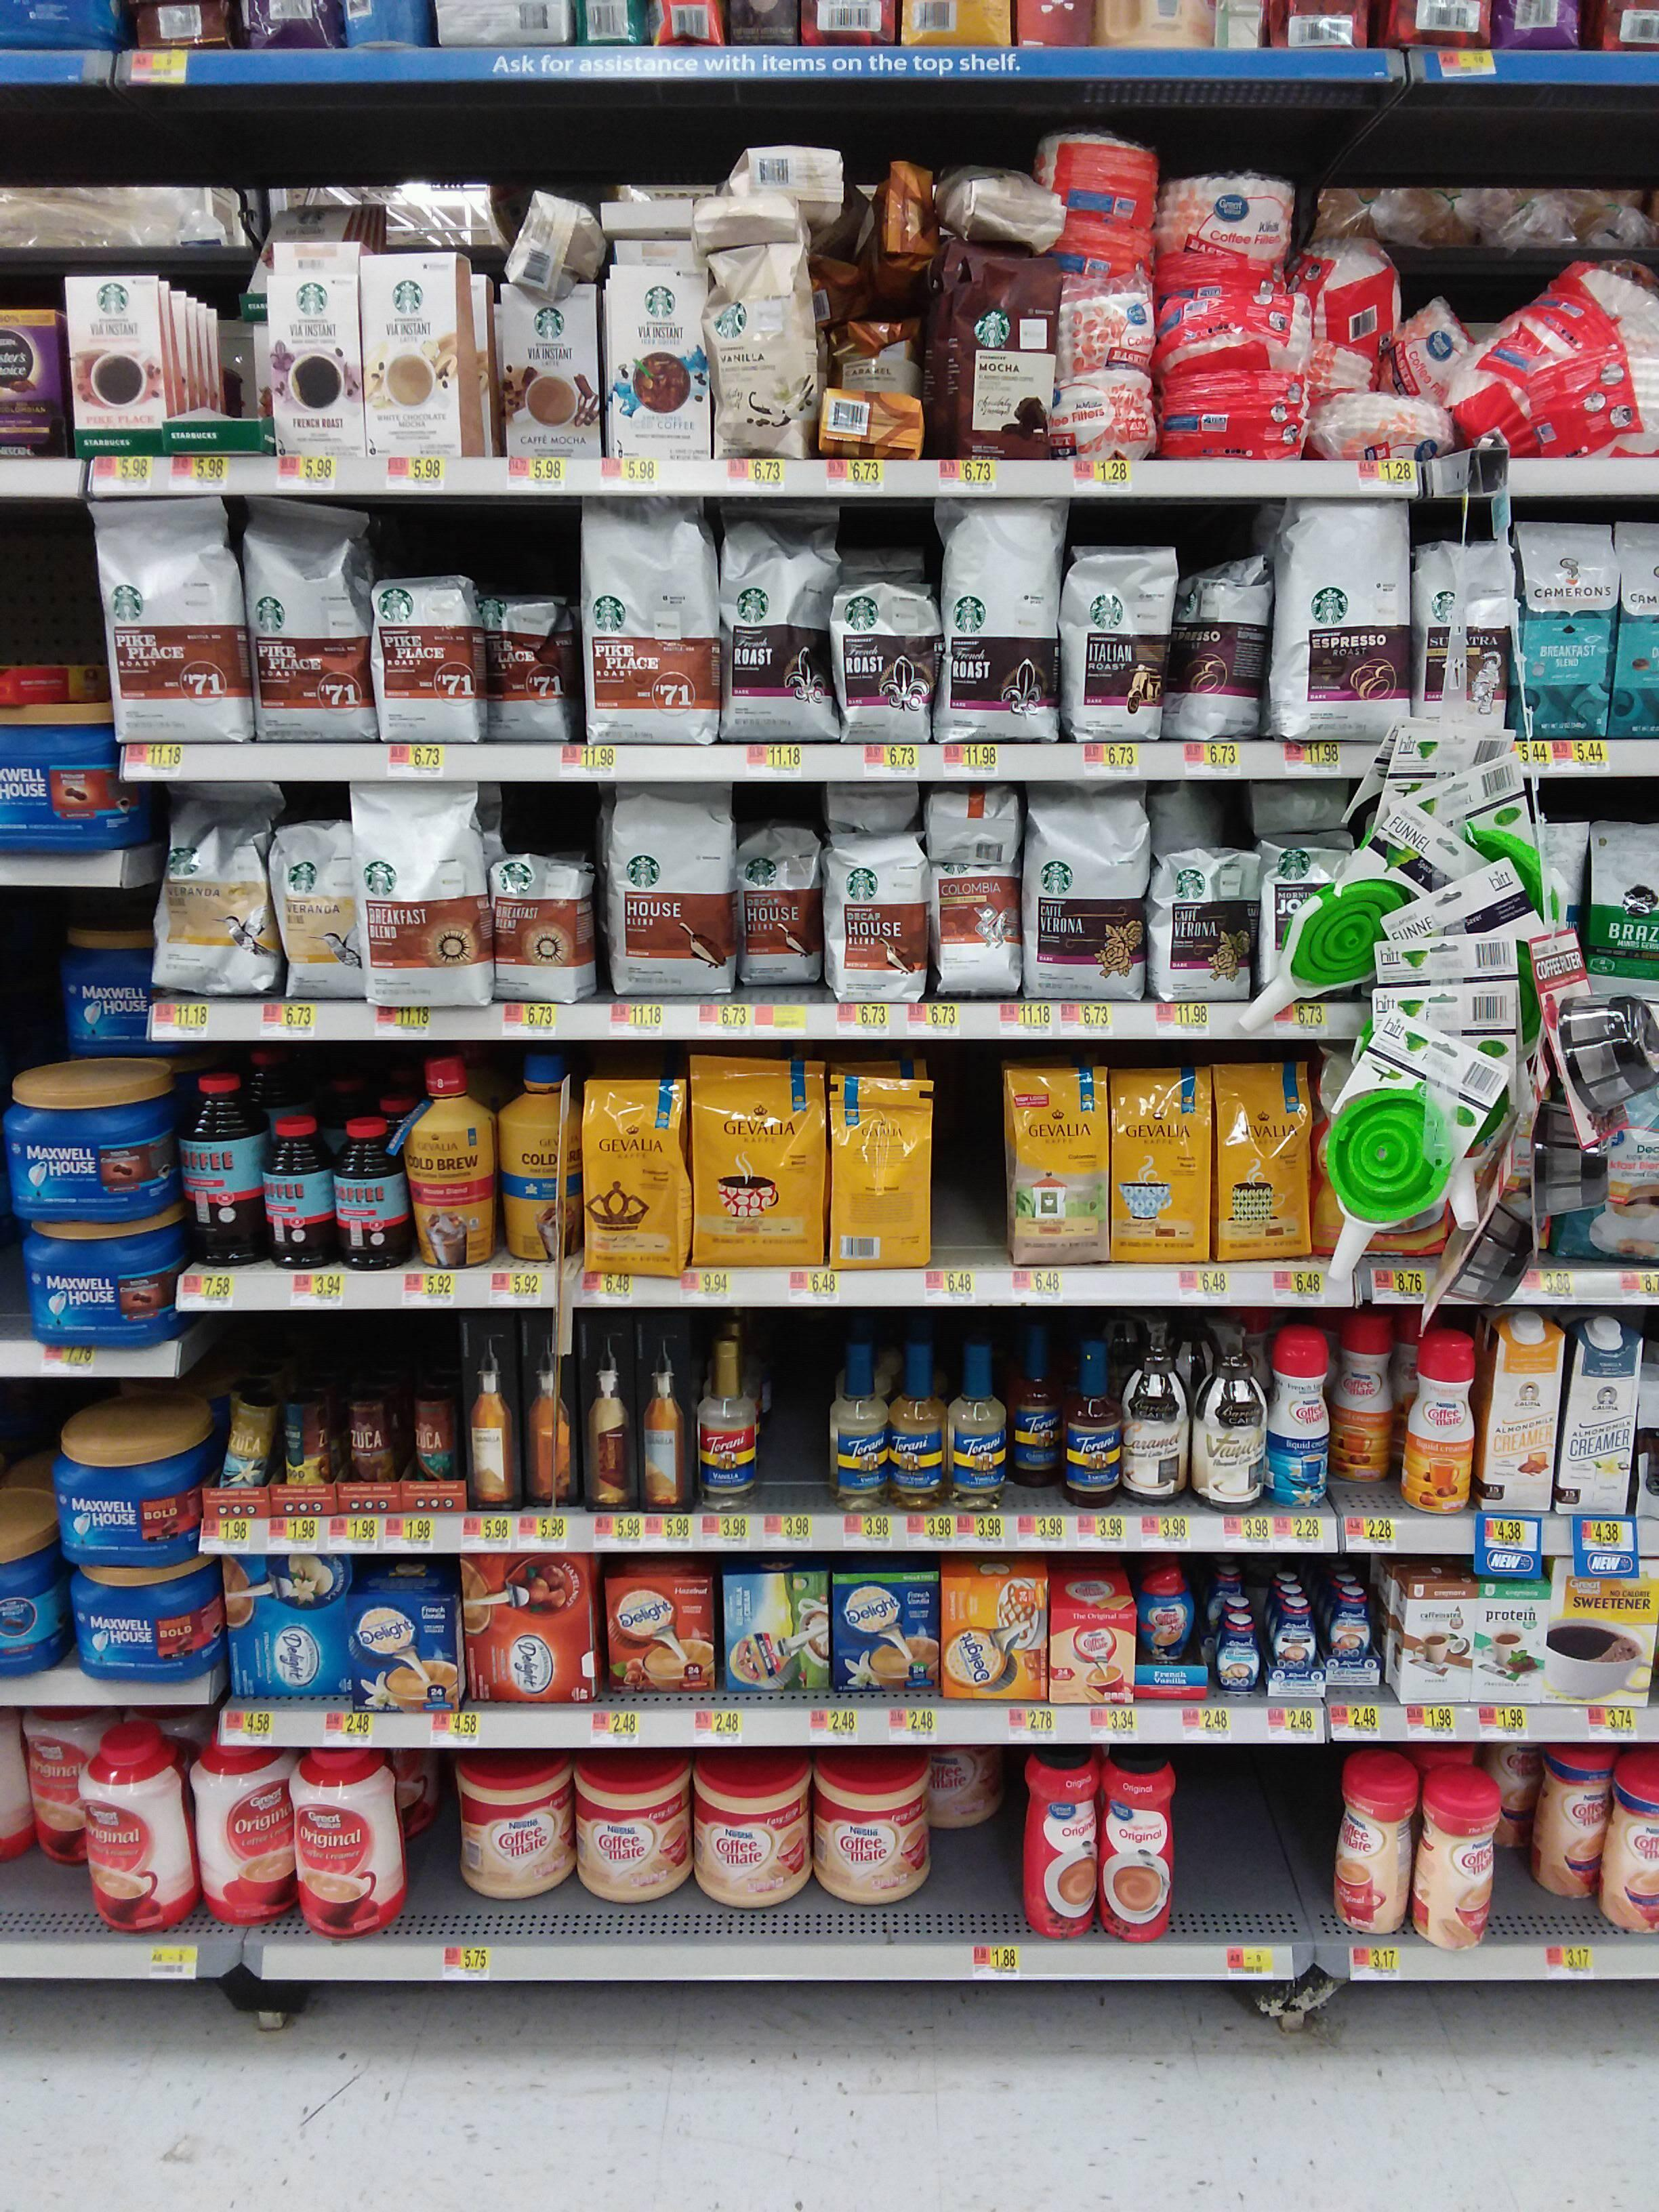empty: (931, 1775, 1019, 1937), (938, 1083, 1011, 1270), (1246, 1759, 1316, 1951), (1169, 1759, 1239, 1949), (758, 1350, 835, 1510)
